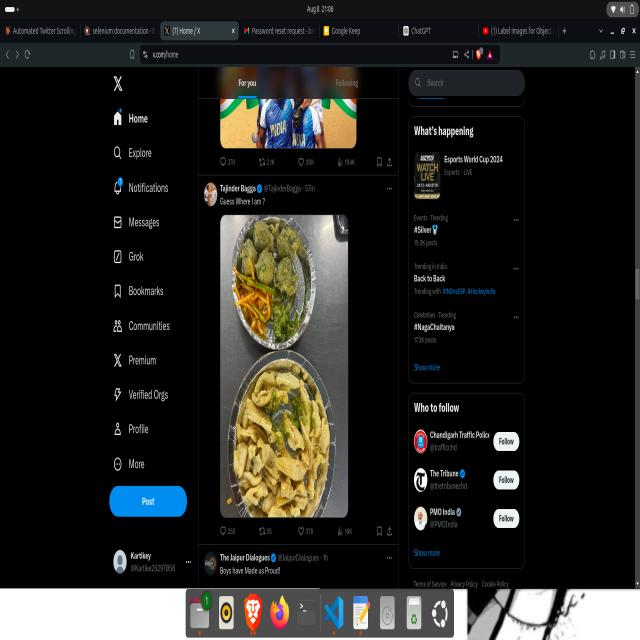Tweet-Comment_Box-: (193, 171, 406, 551)
